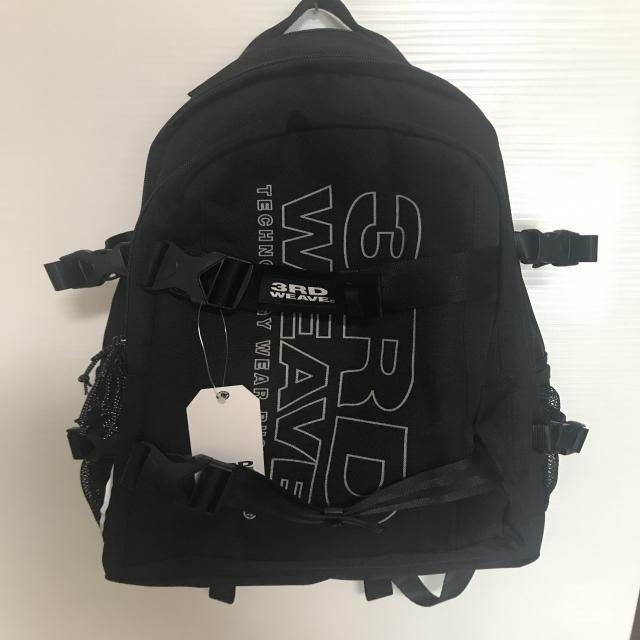backpack: (79, 24, 601, 602)
